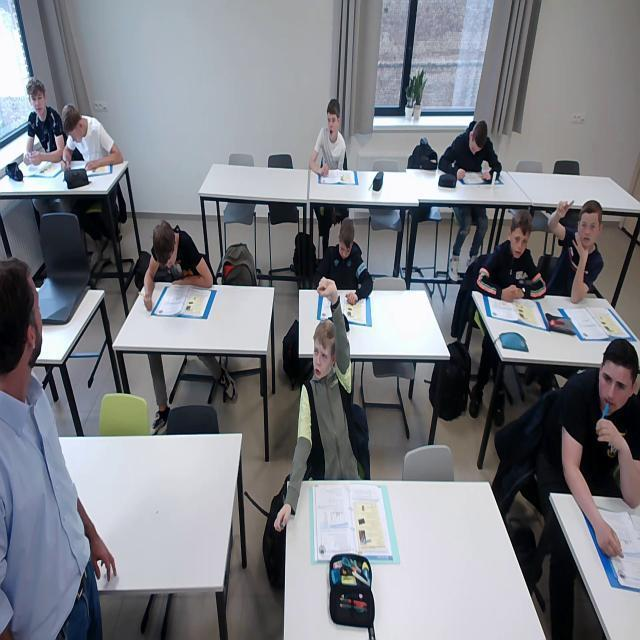Looking forward: (600, 362, 632, 416), (510, 227, 529, 258)
Raising hand: (286, 276, 358, 524), (548, 195, 605, 305)
Reading-writing: (138, 220, 216, 320), (56, 102, 128, 179), (308, 99, 361, 189), (436, 118, 503, 187), (19, 83, 63, 181)
